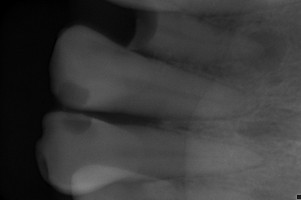Furcation Involvement: (239, 31, 287, 71)
